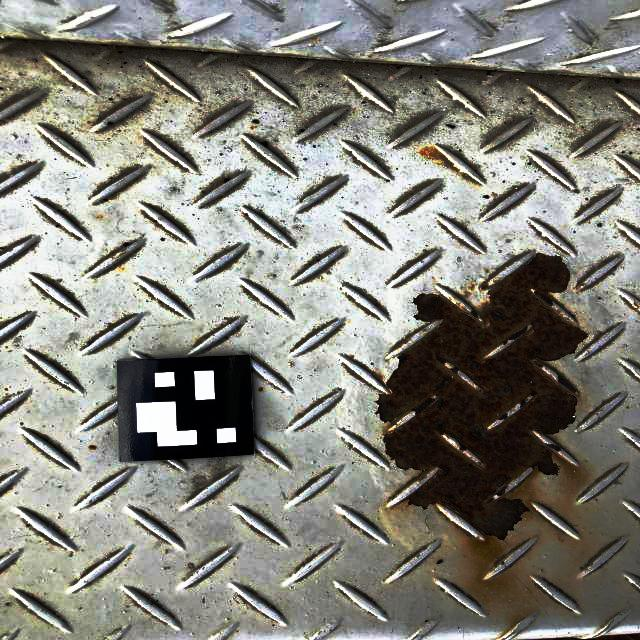Corrosion: (374, 252, 591, 544), (530, 633, 640, 640), (420, 145, 440, 160)
